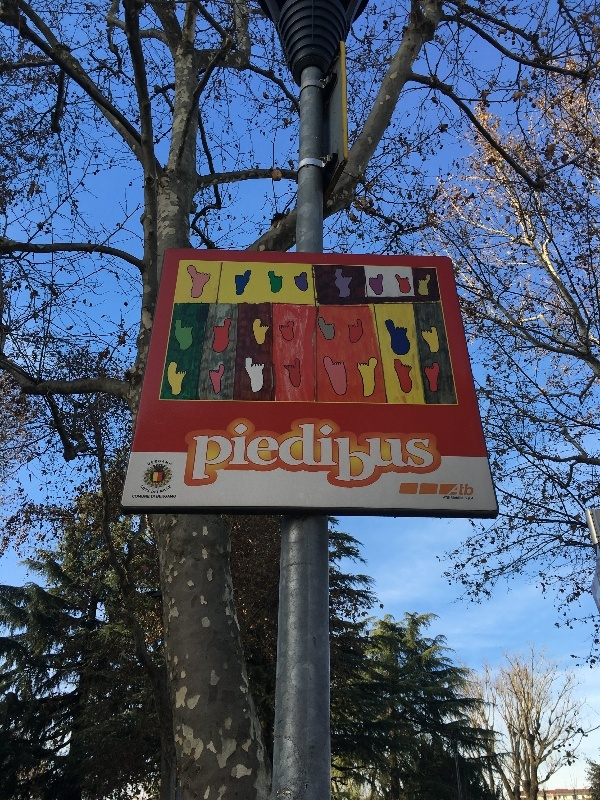text: (209, 415, 224, 482), (225, 415, 240, 482), (241, 415, 256, 482), (257, 415, 272, 482), (273, 415, 288, 482), (289, 415, 304, 482), (305, 415, 320, 482), (321, 415, 336, 482), (337, 415, 352, 482), (353, 415, 368, 482), (369, 415, 384, 482), (385, 415, 400, 482), (401, 415, 416, 482), (417, 415, 432, 482), (195, 415, 208, 482), (433, 415, 439, 482), (465, 484, 474, 497), (161, 485, 172, 494), (147, 459, 160, 466), (161, 459, 173, 466), (161, 494, 176, 498), (465, 497, 480, 501), (460, 484, 464, 497), (451, 496, 464, 500), (145, 484, 150, 494), (133, 494, 144, 498), (152, 490, 160, 494), (151, 495, 160, 498), (142, 484, 144, 494), (145, 494, 150, 498), (157, 494, 160, 498), (444, 496, 448, 499), (449, 496, 450, 499)
